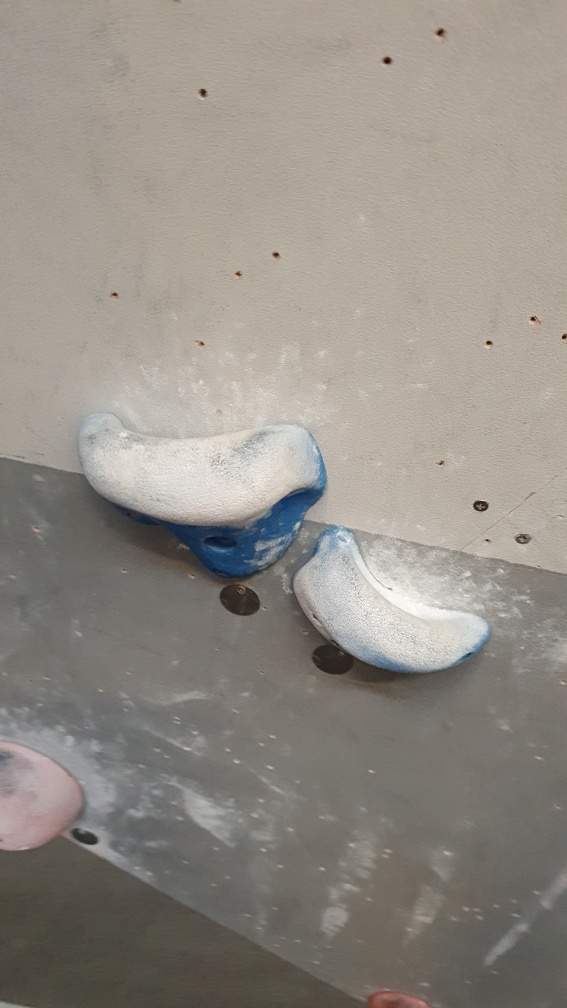Hand Start: (219, 580, 263, 620), (311, 642, 356, 674), (73, 825, 99, 849)
Jug: (76, 408, 328, 582), (290, 525, 495, 677)
Sloper: (1, 737, 87, 856)
